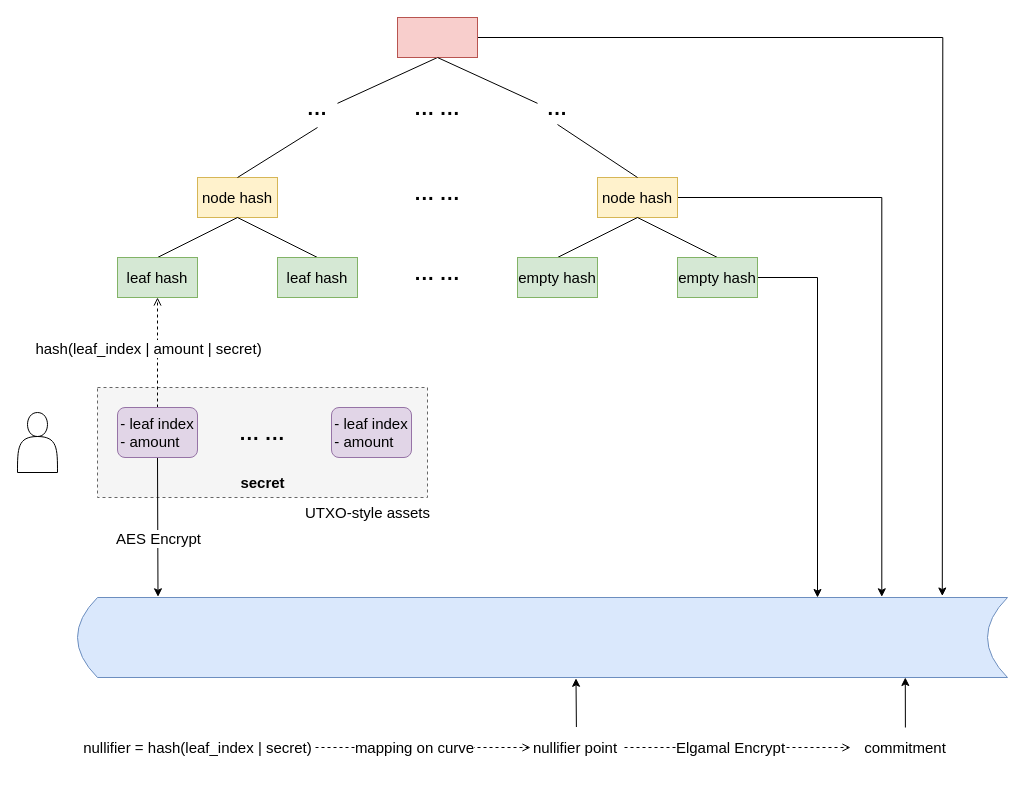
The diagram is 1025 pixels wide and 785 high, and some of its shapes have lost their labels. The shapes that lost their labels are listed below. From the top down, each one's centre as x and y in pixels, then its label:
At pixel 437 37: "root hash".
At pixel 542 637: "Solana Blockchain".
